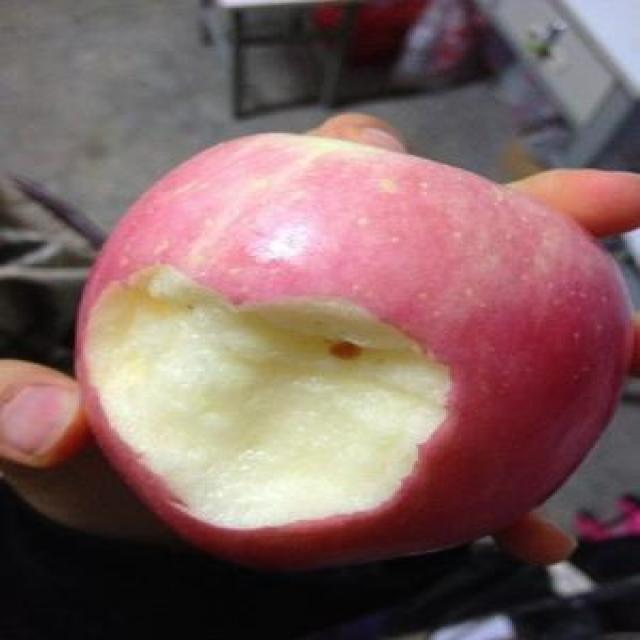Rotten: (71, 122, 609, 572)
